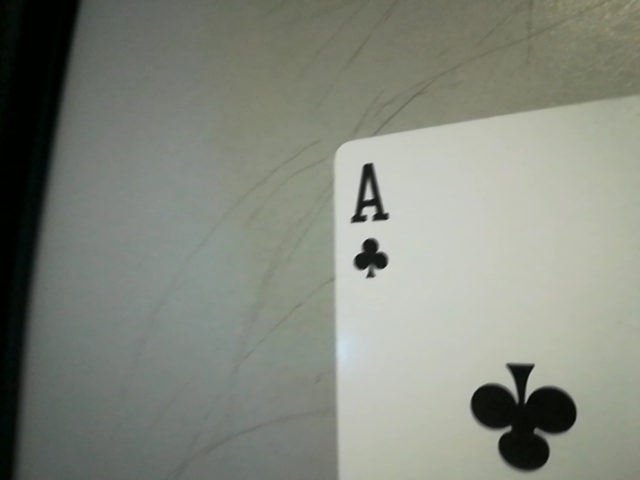mh a: (338, 151, 406, 290)
